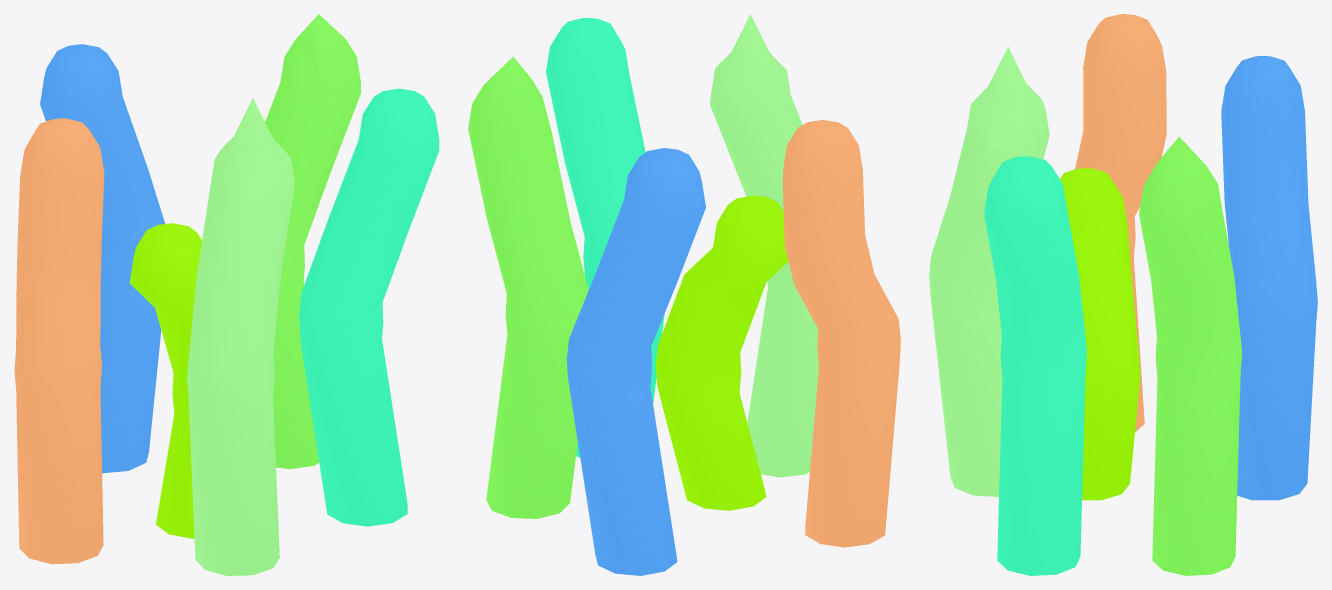
The model's file is grass_type_03.glb.
3 renders of one model, left to right at view 1: azimuth 30°, elevation 25°; view 2: azimuth 150°, elevation 25°; view 3: azimuth 270°, elevation 25°, orthographic.
Visible parts, largest first — view 1: grass_mesh.005, grass_mesh.001, grass_mesh.004, grass_mesh.002, grass_mesh.003, grass_mesh; view 2: grass_mesh.002, grass_mesh.003, grass_mesh.001, grass_mesh, grass_mesh.005, grass_mesh.004; view 3: grass_mesh.003, grass_mesh.002, grass_mesh.004, grass_mesh.005, grass_mesh, grass_mesh.001.
Part boxes in pixels (x1=…): grass_mesh.005: x1=187, y1=98, x2=294, y2=575; grass_mesh.001: x1=14, y1=118, x2=104, y2=564; grass_mesh.004: x1=299, y1=88, x2=439, y2=526; grass_mesh.002: x1=40, y1=44, x2=165, y2=473; grass_mesh.003: x1=265, y1=14, x2=360, y2=469; grass_mesh: x1=129, y1=223, x2=201, y2=538; grass_mesh.002: x1=566, y1=148, x2=705, y2=575; grass_mesh.003: x1=468, y1=56, x2=588, y2=518; grass_mesh.001: x1=782, y1=120, x2=900, y2=547; grass_mesh: x1=655, y1=195, x2=788, y2=510; grass_mesh.005: x1=710, y1=14, x2=818, y2=477; grass_mesh.004: x1=546, y1=18, x2=664, y2=457; grass_mesh.003: x1=1139, y1=136, x2=1242, y2=575; grass_mesh.002: x1=1221, y1=56, x2=1317, y2=500; grass_mesh.004: x1=984, y1=156, x2=1086, y2=575; grass_mesh.005: x1=929, y1=46, x2=1049, y2=496; grass_mesh: x1=1060, y1=168, x2=1140, y2=500; grass_mesh.001: x1=1074, y1=14, x2=1166, y2=432.
Size of the model in its own units: 0.5482 by 0.6254 by 0.4904.
